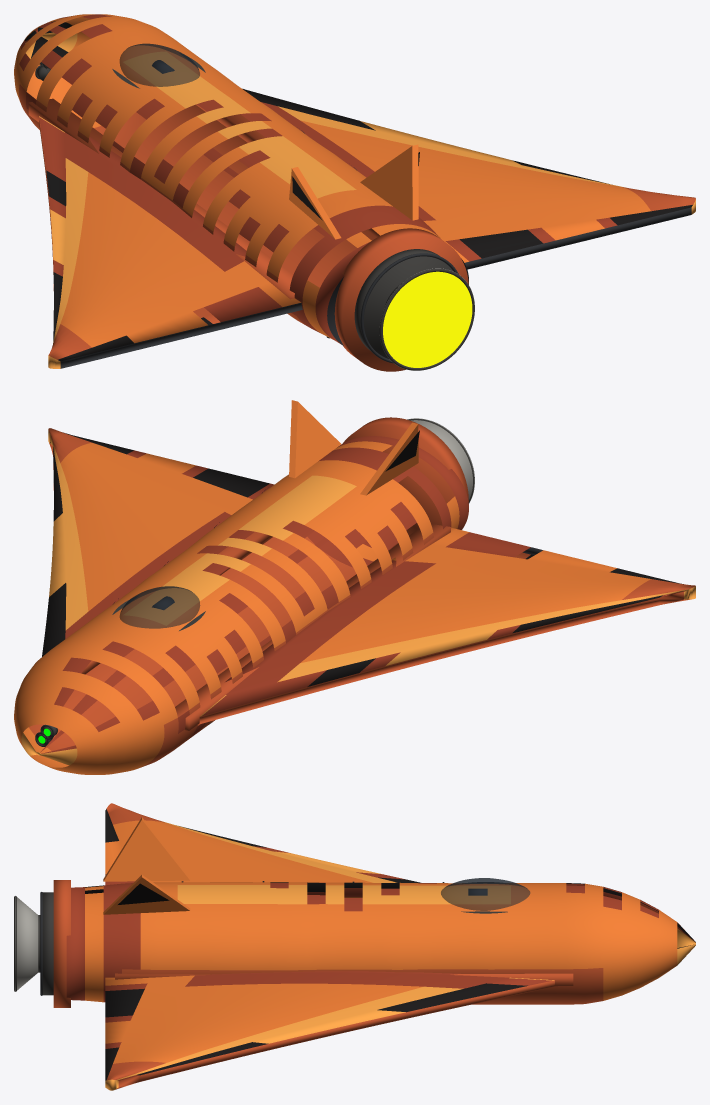
The model's file is Ship_TigerWing_5.glb.
The picture shows the model from 3 angles, top to bottom: view 1: azimuth 30°, elevation 25°; view 2: azimuth 150°, elevation 25°; view 3: azimuth 270°, elevation 25°; orthographic projection. The views are drawn at different scales.
Visible parts, largest first — view 1: Fuselage_OrganicEllipsoidTaperedBody_BakedPaint, Wing_Left_LongDeltaAerofoil_BakedPaint, Wing_Right_LongDeltaAerofoil_BakedPaint, EngineEmitter, AftCollar_IntegratedSingleEngineBand, EngineBlock_AftDarkSingleEngineHousing, CanopyGlass_LowInsetDome, TailFin_Right_CantedStabilizer, WingRoot_Left_EmbeddedShoulder, TailFin_Left_CantedStabilizer, EngineLip_Center_DarkWideRim, EngineBlock_OuterBoltedRim (+1 smaller); view 2: Fuselage_OrganicEllipsoidTaperedBody_BakedPaint, Wing_Left_LongDeltaAerofoil_BakedPaint, Wing_Right_LongDeltaAerofoil_BakedPaint, AftCollar_IntegratedSingleEngineBand, CanopyGlass_LowInsetDome, WingRoot_Left_EmbeddedShoulder, TailFin_Right_CantedStabilizer, TailFin_Left_CantedStabilizer, EngineBell_Center_BroadBurnishedNozzle, WingRoot_Right_EmbeddedShoulder; view 3: Fuselage_OrganicEllipsoidTaperedBody_BakedPaint, Wing_Right_LongDeltaAerofoil_BakedPaint, Wing_Left_LongDeltaAerofoil_BakedPaint, TailFin_Left_CantedStabilizer, CanopyGlass_LowInsetDome, AftCollar_IntegratedSingleEngineBand, EngineBell_Center_BroadBurnishedNozzle, TailFin_Right_CantedStabilizer, EngineBlock_AftDarkSingleEngineHousing, WingRoot_Right_EmbeddedShoulder, TailFin_Right_BakedTrimPatch.
Boxes of the visible parts, left/top/right/bottom form: Fuselage_OrganicEllipsoidTaperedBody_BakedPaint: left=14, top=14, right=468, bottom=345; Wing_Left_LongDeltaAerofoil_BakedPaint: left=39, top=116, right=302, bottom=368; Wing_Right_LongDeltaAerofoil_BakedPaint: left=242, top=88, right=695, bottom=269; EngineEmitter: left=383, top=271, right=472, bottom=367; AftCollar_IntegratedSingleEngineBand: left=334, top=228, right=468, bottom=371; EngineBlock_AftDarkSingleEngineHousing: left=354, top=249, right=453, bottom=358; CanopyGlass_LowInsetDome: left=119, top=43, right=199, bottom=86; TailFin_Right_CantedStabilizer: left=360, top=144, right=418, bottom=220; WingRoot_Left_EmbeddedShoulder: left=28, top=98, right=294, bottom=299; TailFin_Left_CantedStabilizer: left=289, top=167, right=341, bottom=239; EngineLip_Center_DarkWideRim: left=379, top=268, right=474, bottom=370; EngineBlock_OuterBoltedRim: left=360, top=253, right=458, bottom=363; Fuselage_OrganicEllipsoidTaperedBody_BakedPaint: left=14, top=436, right=468, bottom=774; Wing_Left_LongDeltaAerofoil_BakedPaint: left=198, top=527, right=695, bottom=724; Wing_Right_LongDeltaAerofoil_BakedPaint: left=42, top=428, right=274, bottom=656; AftCollar_IntegratedSingleEngineBand: left=342, top=417, right=468, bottom=546; CanopyGlass_LowInsetDome: left=119, top=586, right=200, bottom=628; WingRoot_Left_EmbeddedShoulder: left=175, top=524, right=450, bottom=730; TailFin_Right_CantedStabilizer: left=289, top=400, right=341, bottom=478; TailFin_Left_CantedStabilizer: left=360, top=422, right=418, bottom=495; EngineBell_Center_BroadBurnishedNozzle: left=407, top=418, right=474, bottom=503; WingRoot_Right_EmbeddedShoulder: left=81, top=531, right=272, bottom=674; Fuselage_OrganicEllipsoidTaperedBody_BakedPaint: left=66, top=882, right=695, bottom=1004; Wing_Right_LongDeltaAerofoil_BakedPaint: left=105, top=971, right=557, bottom=1090; Wing_Left_LongDeltaAerofoil_BakedPaint: left=105, top=803, right=420, bottom=885; TailFin_Left_CantedStabilizer: left=103, top=817, right=190, bottom=881; CanopyGlass_LowInsetDome: left=441, top=878, right=530, bottom=910; AftCollar_IntegratedSingleEngineBand: left=53, top=880, right=70, bottom=1007; EngineBell_Center_BroadBurnishedNozzle: left=15, top=896, right=38, bottom=991; TailFin_Right_CantedStabilizer: left=103, top=875, right=190, bottom=914; EngineBlock_AftDarkSingleEngineHousing: left=42, top=892, right=53, bottom=995; WingRoot_Right_EmbeddedShoulder: left=115, top=973, right=573, bottom=985; TailFin_Right_BakedTrimPatch: left=118, top=883, right=169, bottom=904.
Size of the model in its own units: 6.69 by 1.78 by 6.97.
